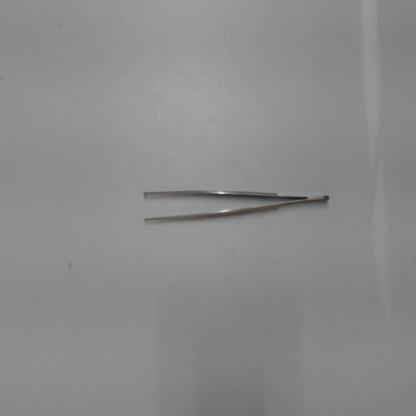Gillies Toothed Dissector: (132, 183, 334, 230)
